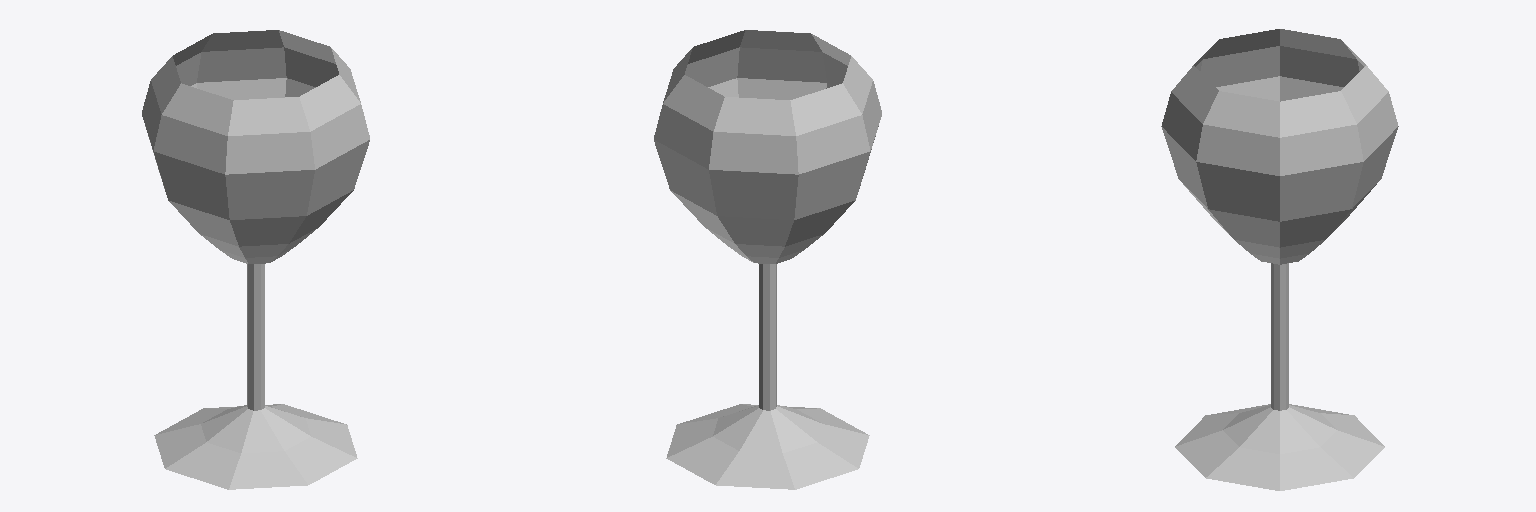
File: sercups_goblet.obj
The picture shows the model from 3 angles: view 1: azimuth 30°, elevation 25°; view 2: azimuth 150°, elevation 25°; view 3: azimuth 270°, elevation 25°; orthographic projection.
Visible parts, largest first — view 1: sercups_goblet_Cylinder.109; view 2: sercups_goblet_Cylinder.109; view 3: sercups_goblet_Cylinder.109.
Part boxes in pixels (left/top/right/bottom): sercups_goblet_Cylinder.109: left=142, top=30, right=369, bottom=489; sercups_goblet_Cylinder.109: left=654, top=30, right=881, bottom=489; sercups_goblet_Cylinder.109: left=1161, top=29, right=1398, bottom=490.
Size of the model in its own units: 2.25 by 4 by 2.25.